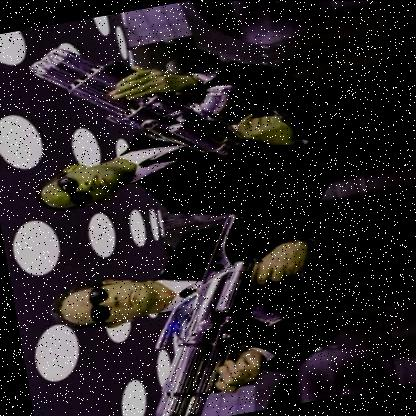rifle: (19, 11, 299, 220), (110, 214, 335, 416)
